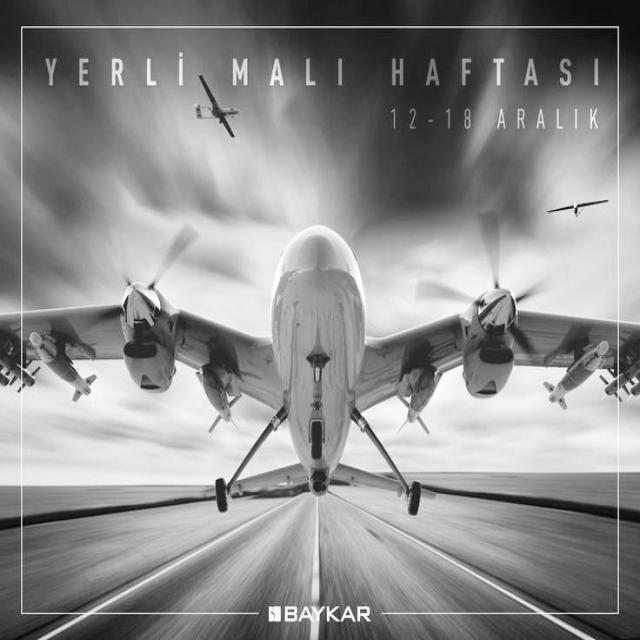iha: (0, 226, 639, 514), (192, 6, 237, 131)
